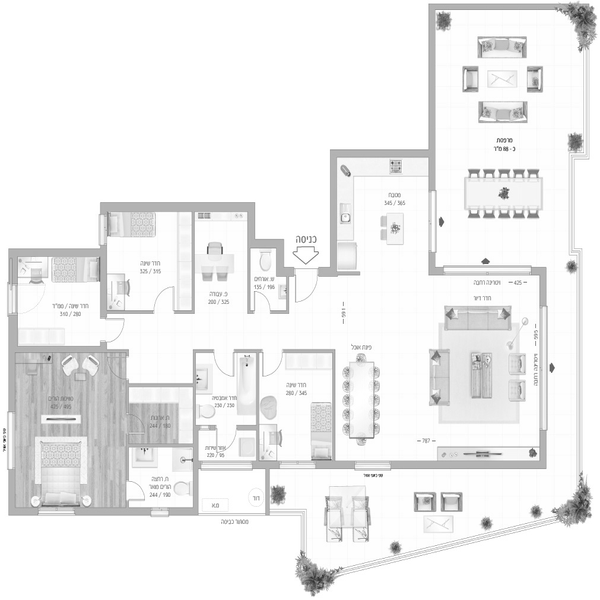door: (258, 348, 286, 383), (292, 274, 322, 306), (101, 315, 129, 347), (250, 288, 280, 316), (213, 348, 237, 381), (154, 282, 180, 310), (120, 474, 142, 504)
room: (324, 267, 555, 471), (428, 4, 579, 272), (3, 345, 131, 514), (96, 200, 256, 316), (331, 145, 447, 285), (1, 246, 109, 354), (259, 343, 345, 471), (124, 375, 198, 515), (190, 339, 264, 475)
wall: (251, 346, 268, 462), (431, 1, 586, 13), (99, 203, 252, 215), (427, 10, 437, 190), (190, 374, 202, 519), (328, 146, 341, 276), (239, 207, 255, 312), (188, 203, 201, 311), (327, 353, 340, 460), (333, 146, 431, 159), (390, 458, 547, 466), (6, 313, 18, 411), (6, 249, 107, 259), (126, 378, 193, 391), (17, 344, 101, 354), (5, 464, 21, 513), (100, 254, 111, 321), (71, 507, 149, 516), (315, 456, 355, 473), (264, 465, 277, 517), (105, 306, 155, 319), (245, 237, 284, 253), (126, 441, 191, 449), (537, 266, 549, 308), (166, 502, 197, 518), (274, 234, 285, 278), (537, 427, 550, 463), (252, 459, 283, 474), (281, 275, 292, 314), (284, 347, 337, 355), (430, 253, 445, 278), (187, 347, 216, 359), (236, 348, 264, 357)
window: (538, 310, 553, 428), (424, 194, 443, 254), (193, 458, 260, 475), (444, 264, 532, 274), (3, 414, 21, 461), (279, 458, 320, 475), (352, 455, 388, 473), (3, 284, 20, 315), (98, 214, 109, 248), (40, 503, 68, 513), (149, 504, 165, 517)
